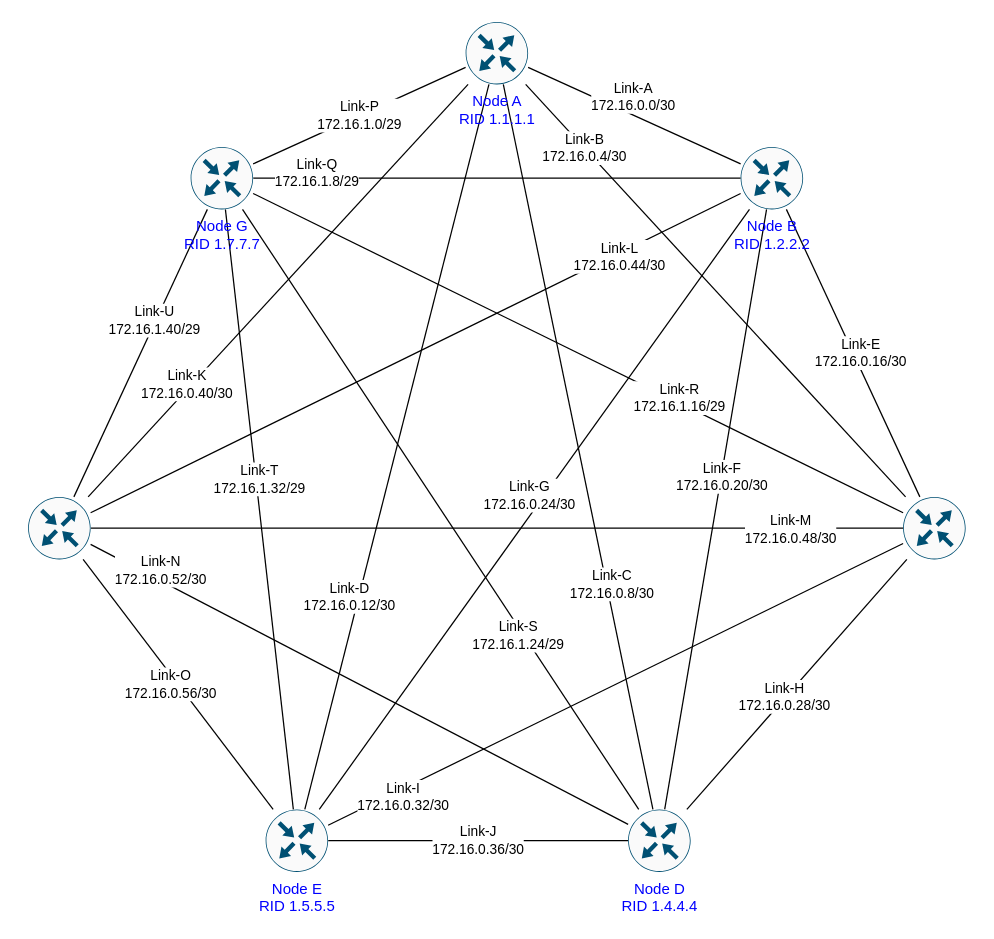
The diagram is 994 pixels wide and 939 high, and some of its shapes have lost their labels. Here are the shapes that lost their labels. From the top down, the box of each, then its label:
(27, 496, 91, 559): Node F RID 1.6.6.6
(902, 496, 966, 559): Node C RID 1.3.3.3
